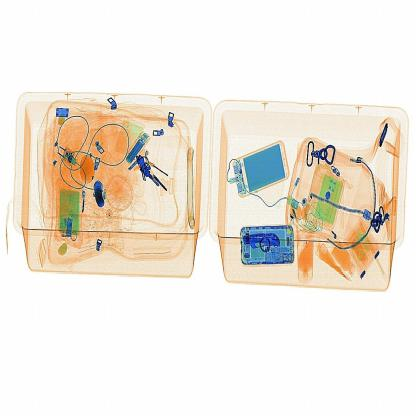knife: (237, 230, 287, 257)
